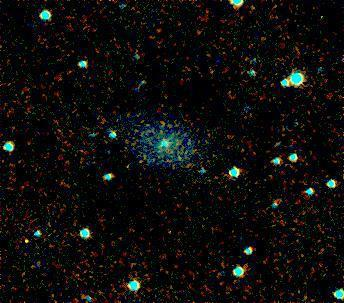star: (13, 228, 43, 258)
